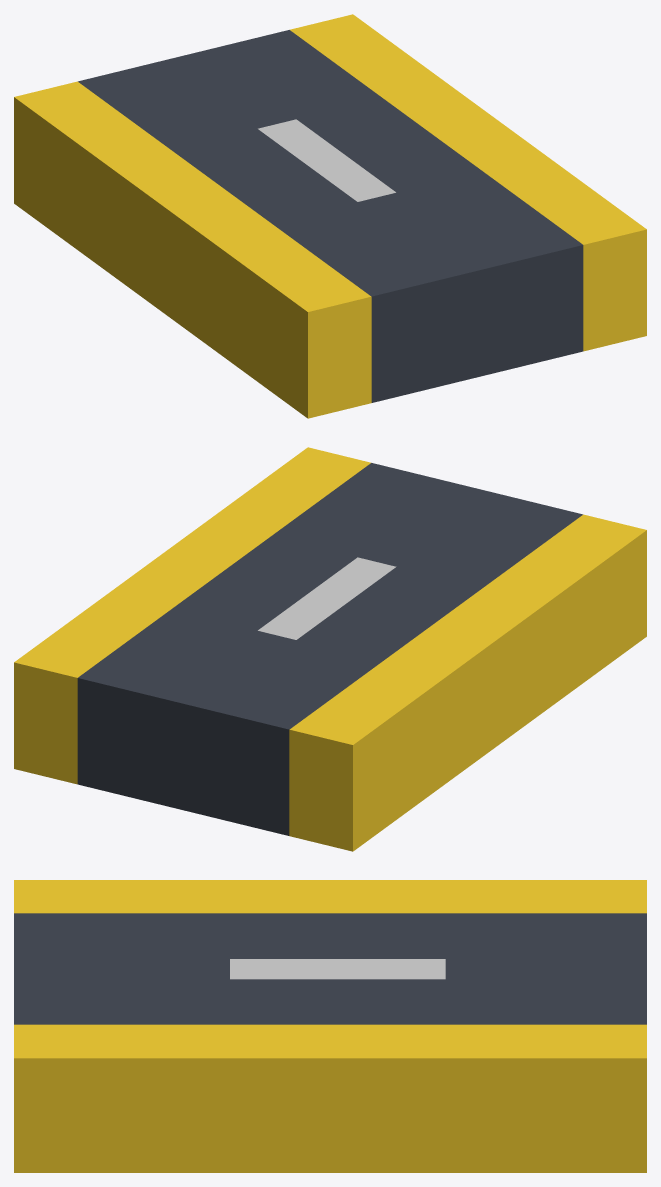
Rendered from road_part_01_s03.FBX.
3 views of the same model, one above another, from view 1: azimuth 30°, elevation 25°; view 2: azimuth 150°, elevation 25°; view 3: azimuth 270°, elevation 25° (orthographic). The views are drawn at different scales.
Parts seen in each view (by area): view 1: road_part_01_s03; view 2: road_part_01_s03; view 3: road_part_01_s03.
Part boxes in pixels (<box>): road_part_01_s03: <box>14,14,646,418</box>; road_part_01_s03: <box>14,447,646,851</box>; road_part_01_s03: <box>14,880,646,1172</box>.
Bounding box in the file's own units: 333 × 500 × 100.
1 material, 1 textured.
